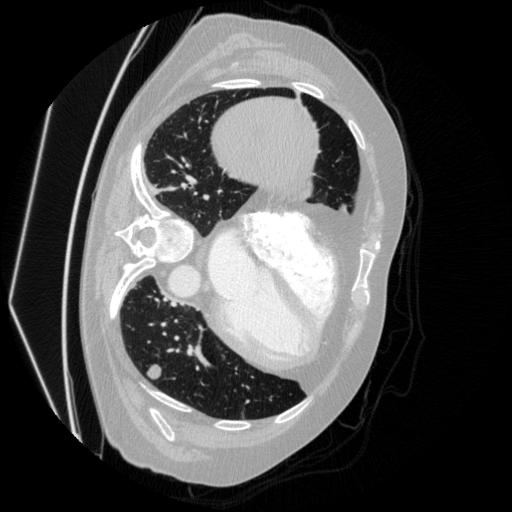nodule: (144, 360, 167, 383)
